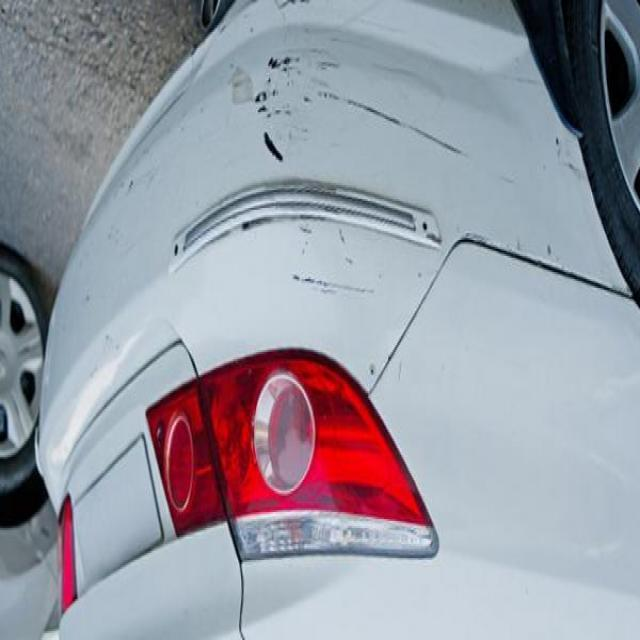scratch: (317, 85, 474, 166), (286, 262, 382, 302)
